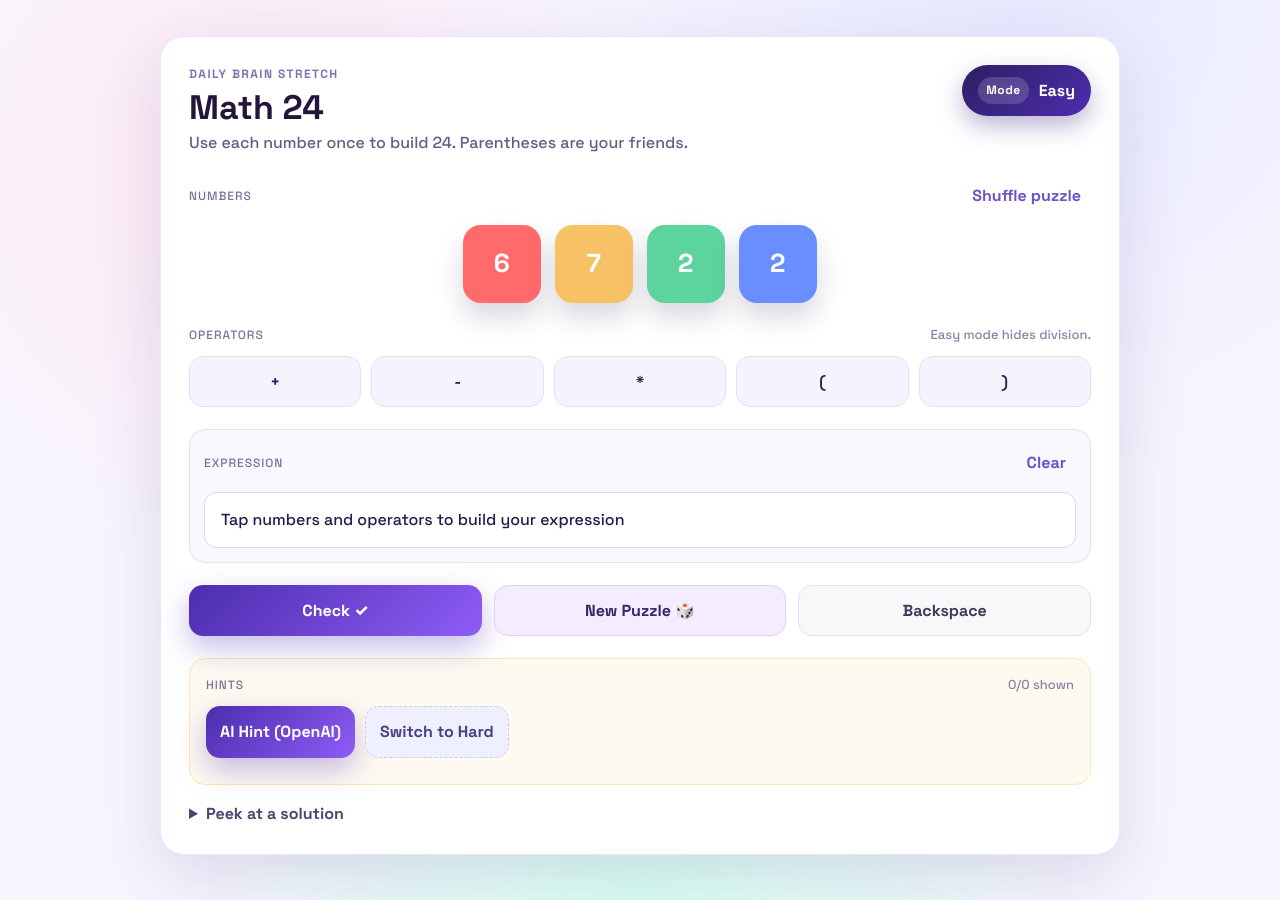
Test: Math24Game › Expression Actions › removes last token on backspace
This screenshot has width=1280, height=900.
Click the button "6".
click(502, 264)  # box [463,225,541,303]
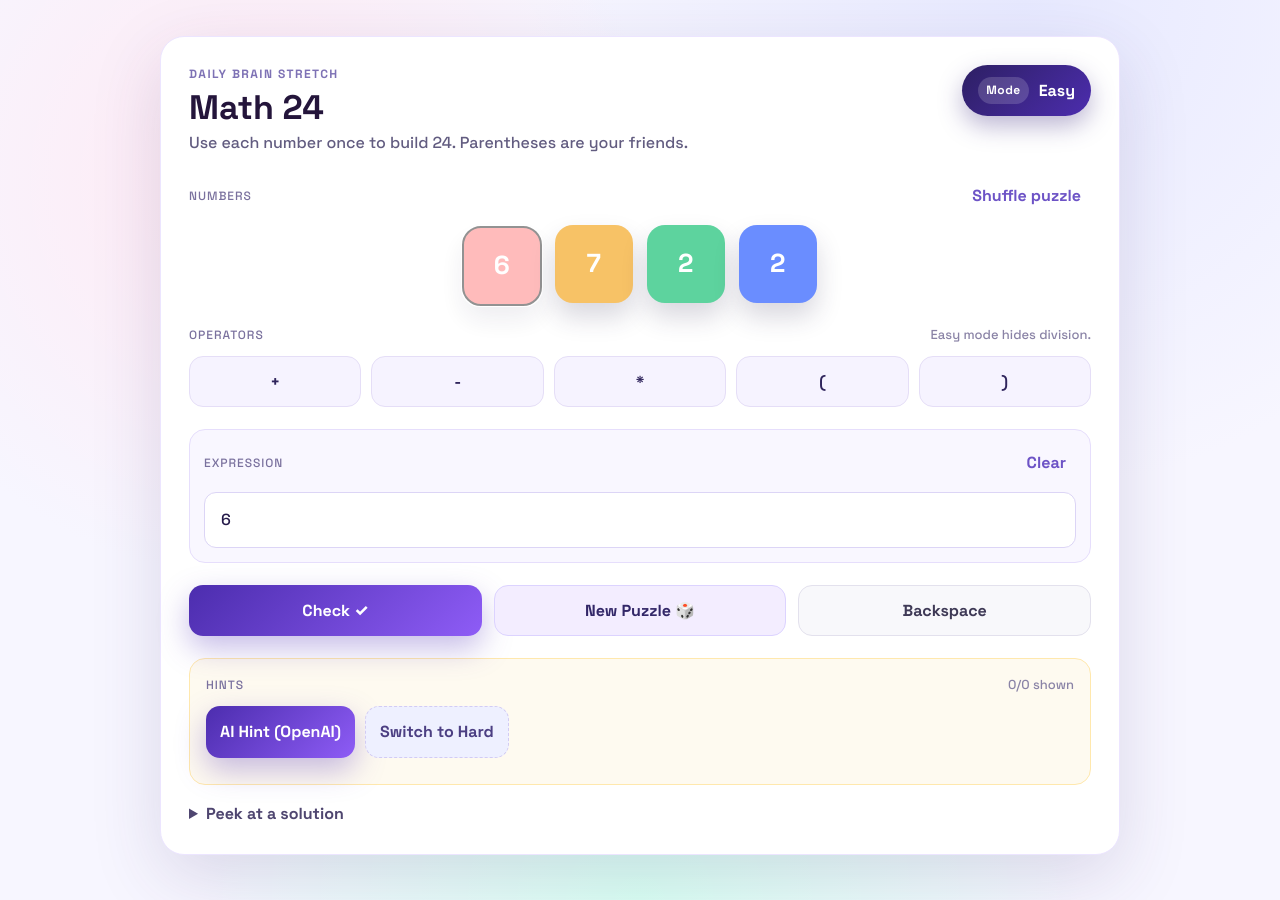
Click the button named "Add +".
click(275, 382)  # box [189,356,361,408]
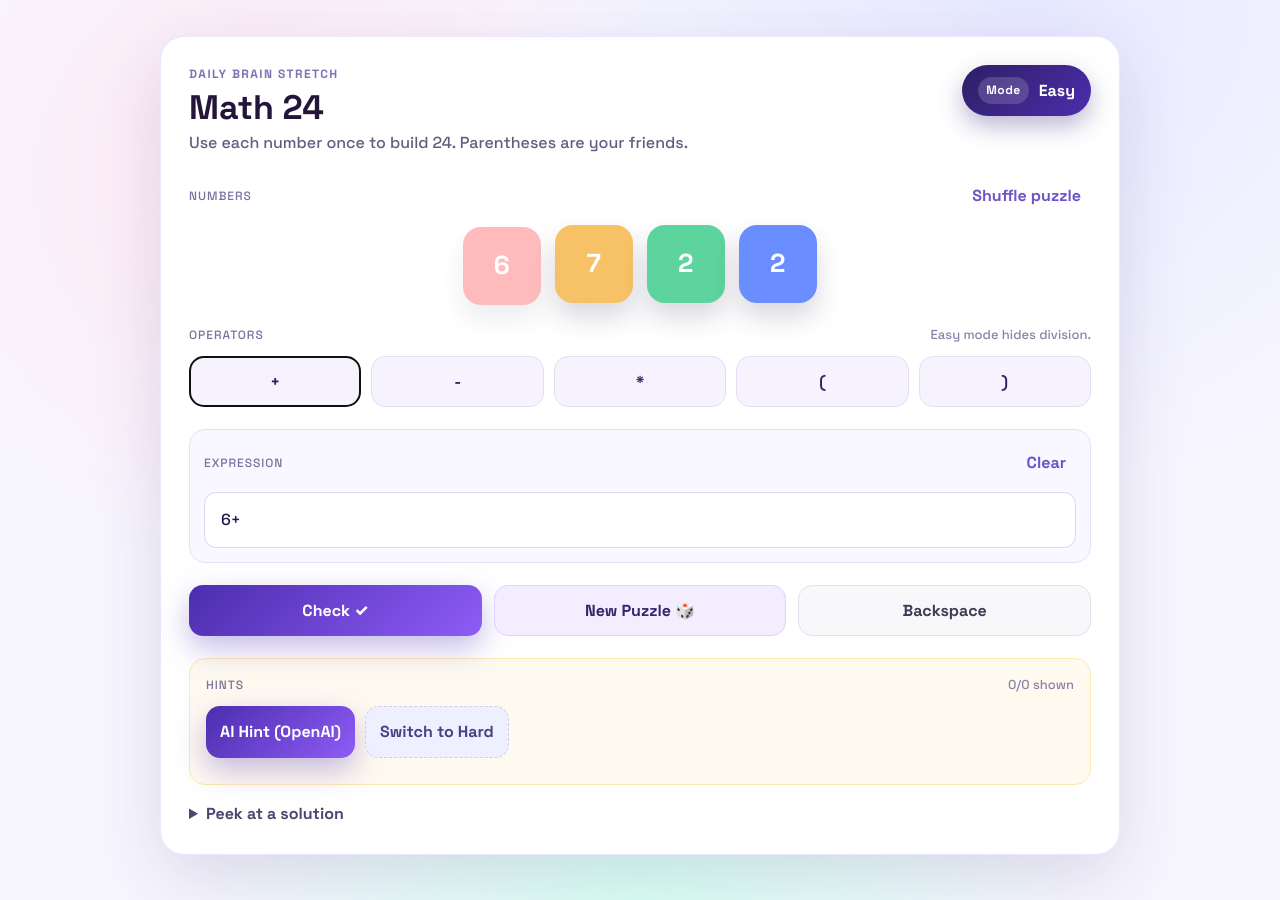
Click the button "Backspace".
click(945, 610)  # box [798,585,1091,636]
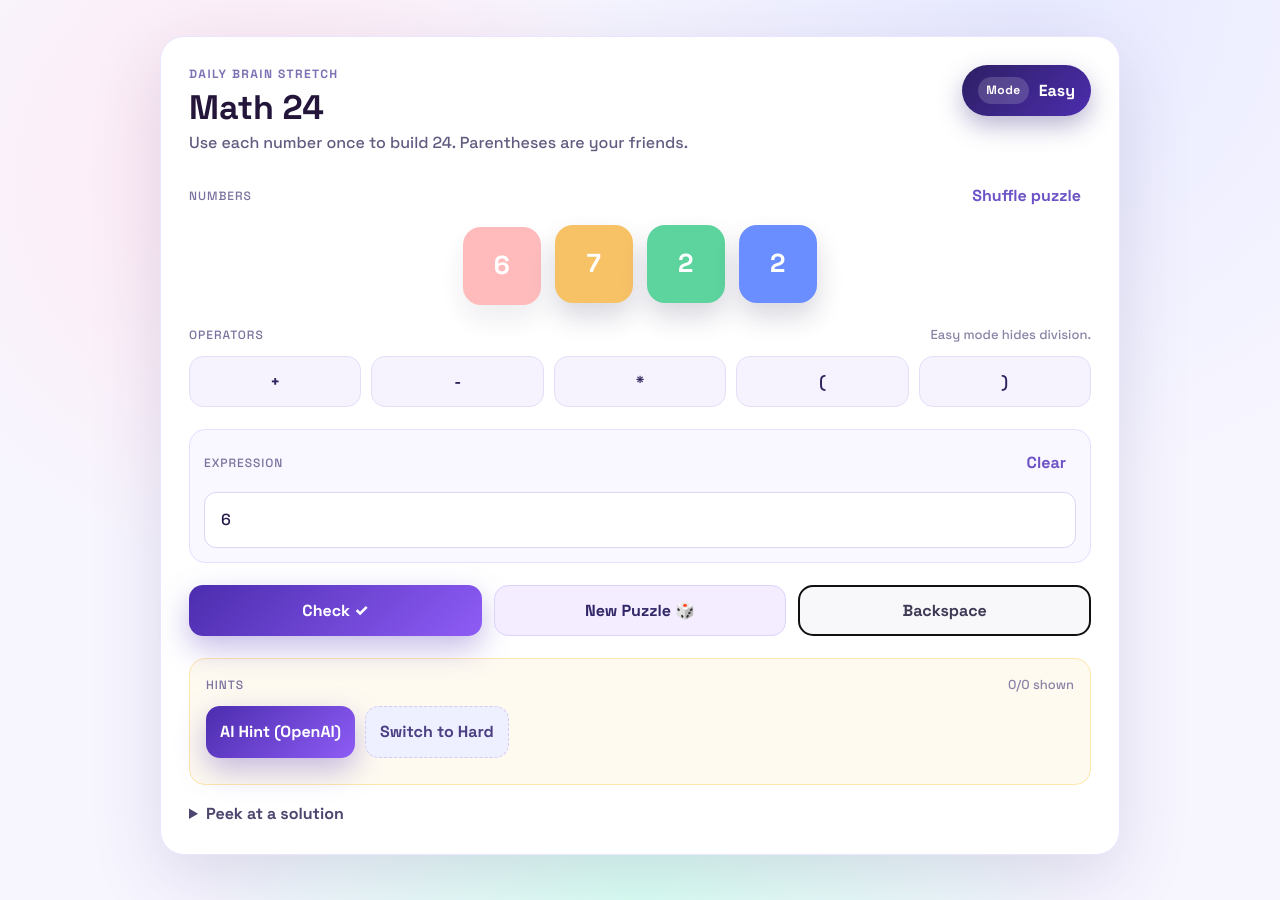
Expected: the element with class "expression" no longer shows "+"
